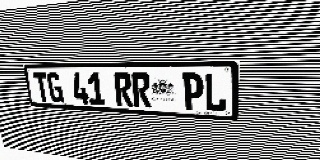1: (86, 73, 105, 105)
4: (71, 73, 90, 104)
G: (46, 73, 64, 103)
L: (204, 73, 227, 112)
P: (182, 73, 203, 111)
R: (131, 73, 152, 108), (114, 73, 133, 107)
T: (33, 73, 51, 102)
